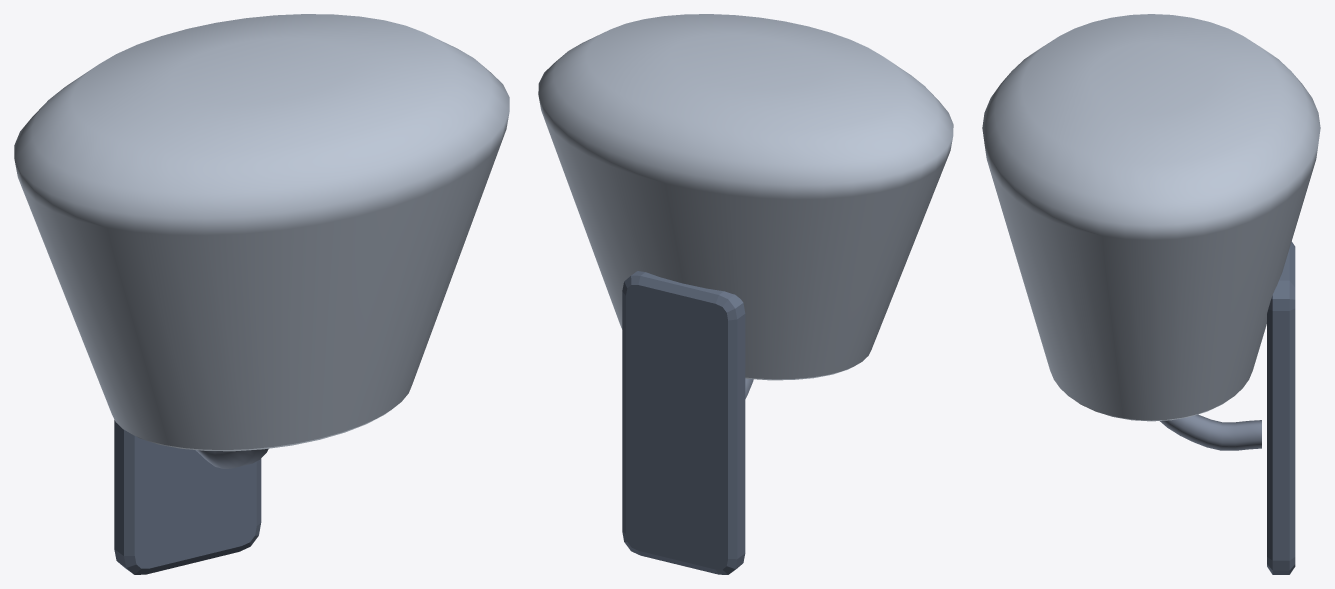
The model's file is walllamp-lite.glb.
3 views of the same model, side by side, from view 1: azimuth 30°, elevation 25°; view 2: azimuth 150°, elevation 25°; view 3: azimuth 270°, elevation 25° (orthographic). The views are drawn at different scales.
Visible parts, largest first — view 1: soft, dark, accent; view 2: soft, dark; view 3: soft, dark, accent.
Boxes of the visible parts, bbox=[...] form: soft: bbox=[14, 14, 509, 449]; dark: bbox=[114, 420, 261, 574]; accent: bbox=[195, 448, 268, 468]; soft: bbox=[538, 14, 953, 379]; dark: bbox=[622, 271, 745, 574]; soft: bbox=[982, 14, 1320, 420]; dark: bbox=[1267, 241, 1295, 574]; accent: bbox=[1160, 414, 1261, 450].
Bounding box in the file's own units: 0.3 × 0.34 × 0.22.
